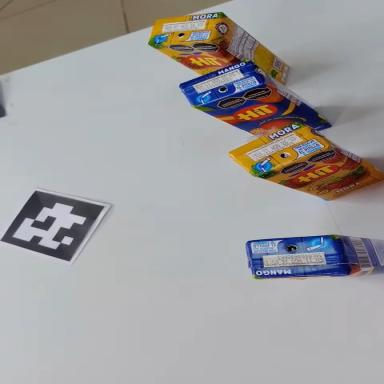HIT-MANGO: (173, 38, 339, 165), (244, 231, 384, 281)
HIT-MORA: (223, 101, 384, 221), (145, 3, 293, 84)
cara_F: (255, 131, 384, 222), (192, 76, 333, 144), (149, 14, 238, 93)
